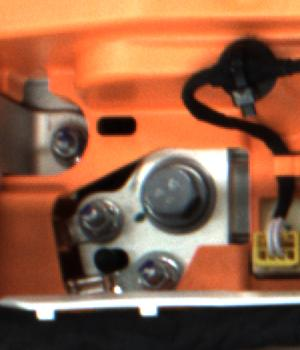nut_b: (136, 152, 218, 237)
screw_s: (74, 195, 122, 234), (53, 120, 87, 166), (141, 257, 178, 290)
